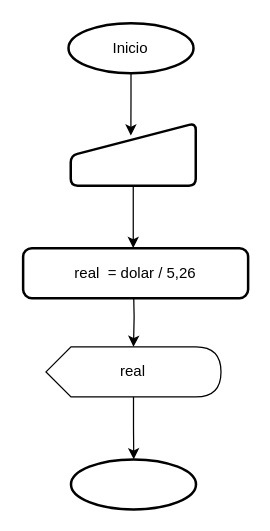
This 270x531 diagram has some shape labels left out. Each missing label, with the centre of its shape:
"dolar" belongs at (x=132, y=153).
"Fim" belongs at (x=133, y=484).
